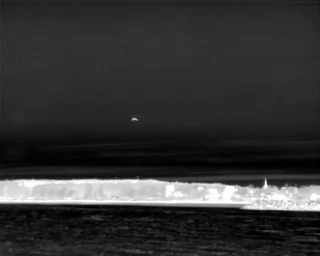BIRD: (129, 115, 140, 125)
